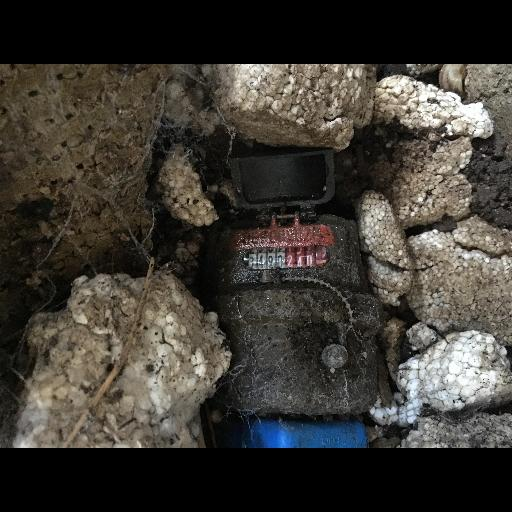0: (306, 248, 316, 268), (277, 248, 286, 268)
2: (287, 248, 296, 269)
3: (316, 247, 328, 267), (248, 251, 257, 270)
4: (296, 248, 306, 269), (258, 249, 266, 270)
9: (268, 249, 276, 270)
border_water_meter_number: (242, 246, 329, 271)
